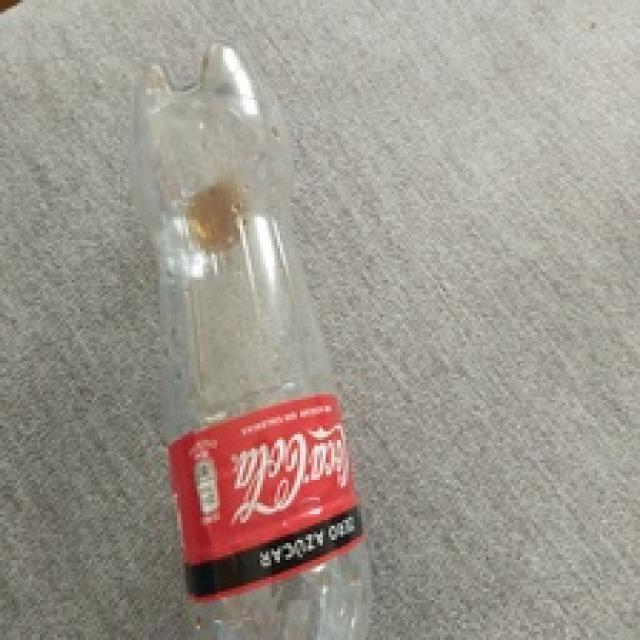Plastic: (138, 42, 376, 640)
